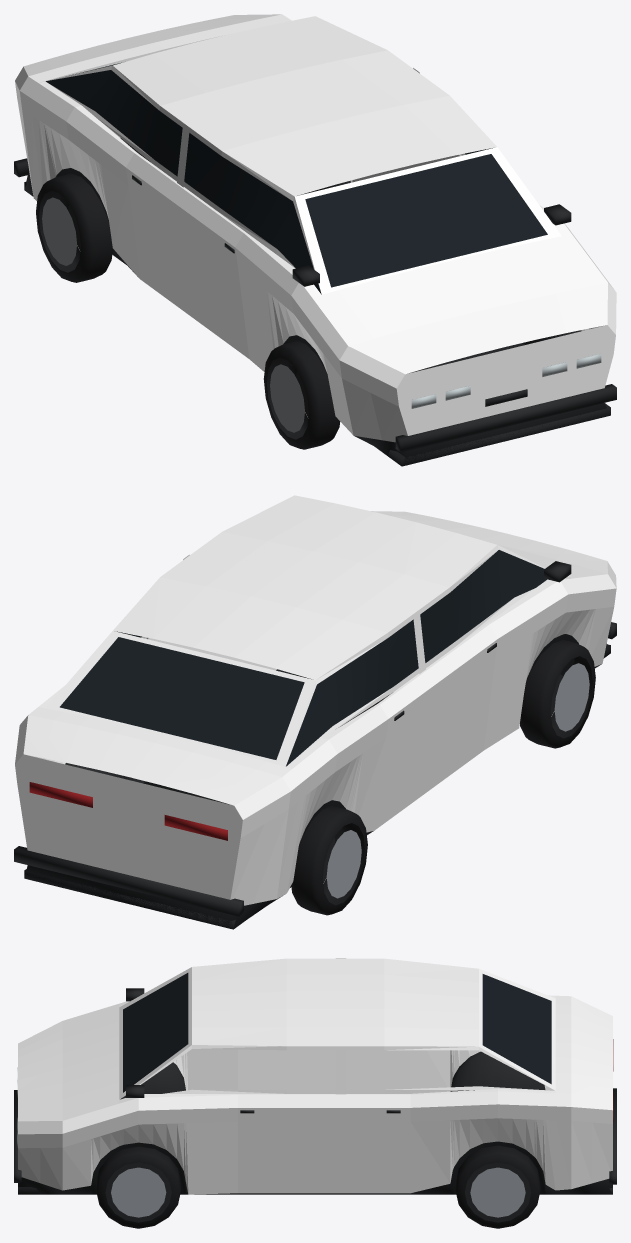
The model's file is vallon_avenida.glb.
3 renders of one model, top to bottom at view 1: azimuth 30°, elevation 25°; view 2: azimuth 150°, elevation 25°; view 3: azimuth 270°, elevation 25°, orthographic. The views are drawn at different scales.
Parts seen in each view (by area): view 1: Body_Paint, Body_Details, Mount_RearLeft_Wheel_Details, Mount_FrontLeft_Wheel_Details; view 2: Body_Paint, Body_Details, Mount_RearLeft_Wheel_Details, Mount_FrontLeft_Wheel_Details; view 3: Body_Paint, Body_Details, Mount_RearRight_Wheel_Details, Mount_FrontRight_Wheel_Details.
Boxes of the visible parts, x1=… form: Body_Paint: x1=15, y1=14, x2=616, y2=442; Body_Details: x1=14, y1=62, x2=616, y2=466; Mount_RearLeft_Wheel_Details: x1=36, y1=173, x2=112, y2=282; Mount_FrontLeft_Wheel_Details: x1=263, y1=340, x2=340, y2=449; Body_Paint: x1=15, y1=495, x2=616, y2=905; Body_Details: x1=14, y1=550, x2=616, y2=929; Mount_RearLeft_Wheel_Details: x1=291, y1=806, x2=367, y2=915; Mount_FrontLeft_Wheel_Details: x1=520, y1=640, x2=595, y2=748; Body_Paint: x1=18, y1=958, x2=612, y2=1194; Body_Details: x1=14, y1=973, x2=616, y2=1194; Mount_RearRight_Wheel_Details: x1=455, y1=1145, x2=540, y2=1228; Mount_FrontRight_Wheel_Details: x1=96, y1=1146, x2=181, y2=1228.
Size of the model in its own units: 1.82 by 1.37 by 4.24.
2 materials, 1 textured.
